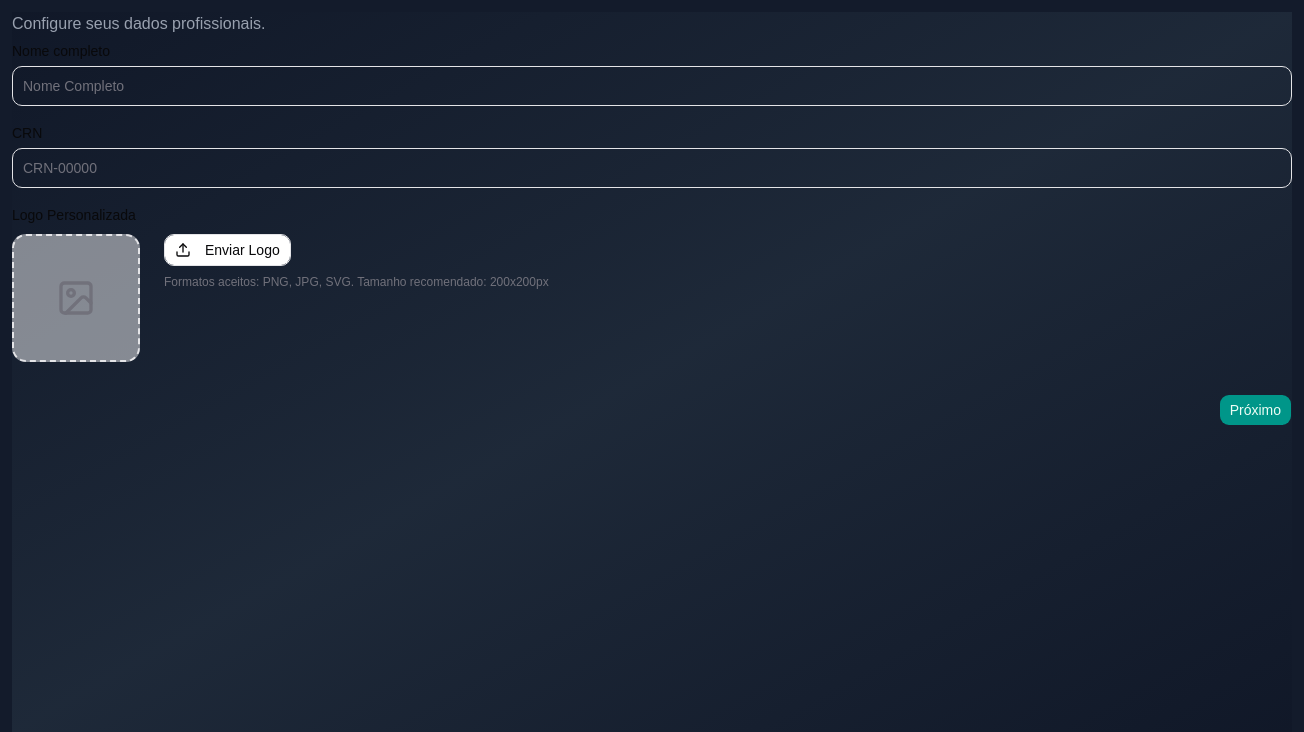
Test: ProfessionalProfileStep › shows validation errors when submitted with empty fields
Click the button "Próximo" at (1255, 410), box [1219,394,1292,426]
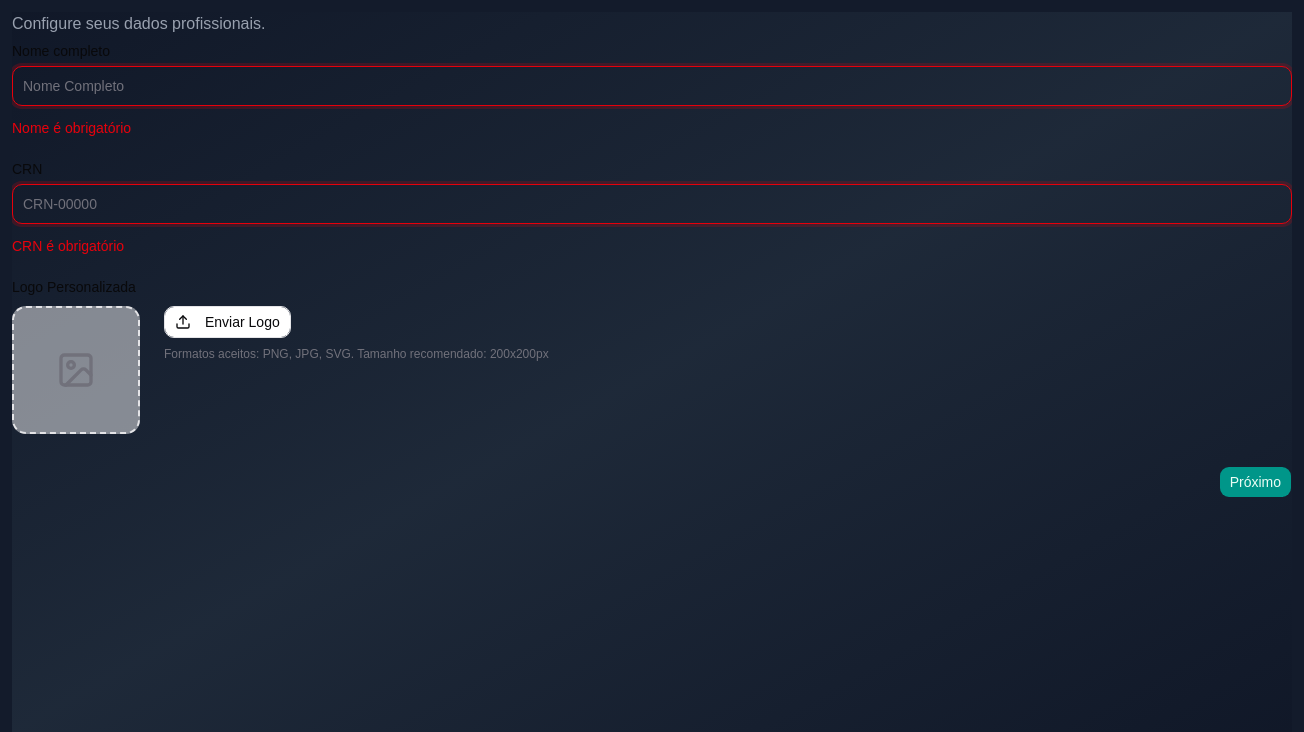
Result: the text "Nome é obrigatório" is shown at [12,120,131,136]
Result: the text "CRN é obrigatório" is shown at [12,238,124,254]
